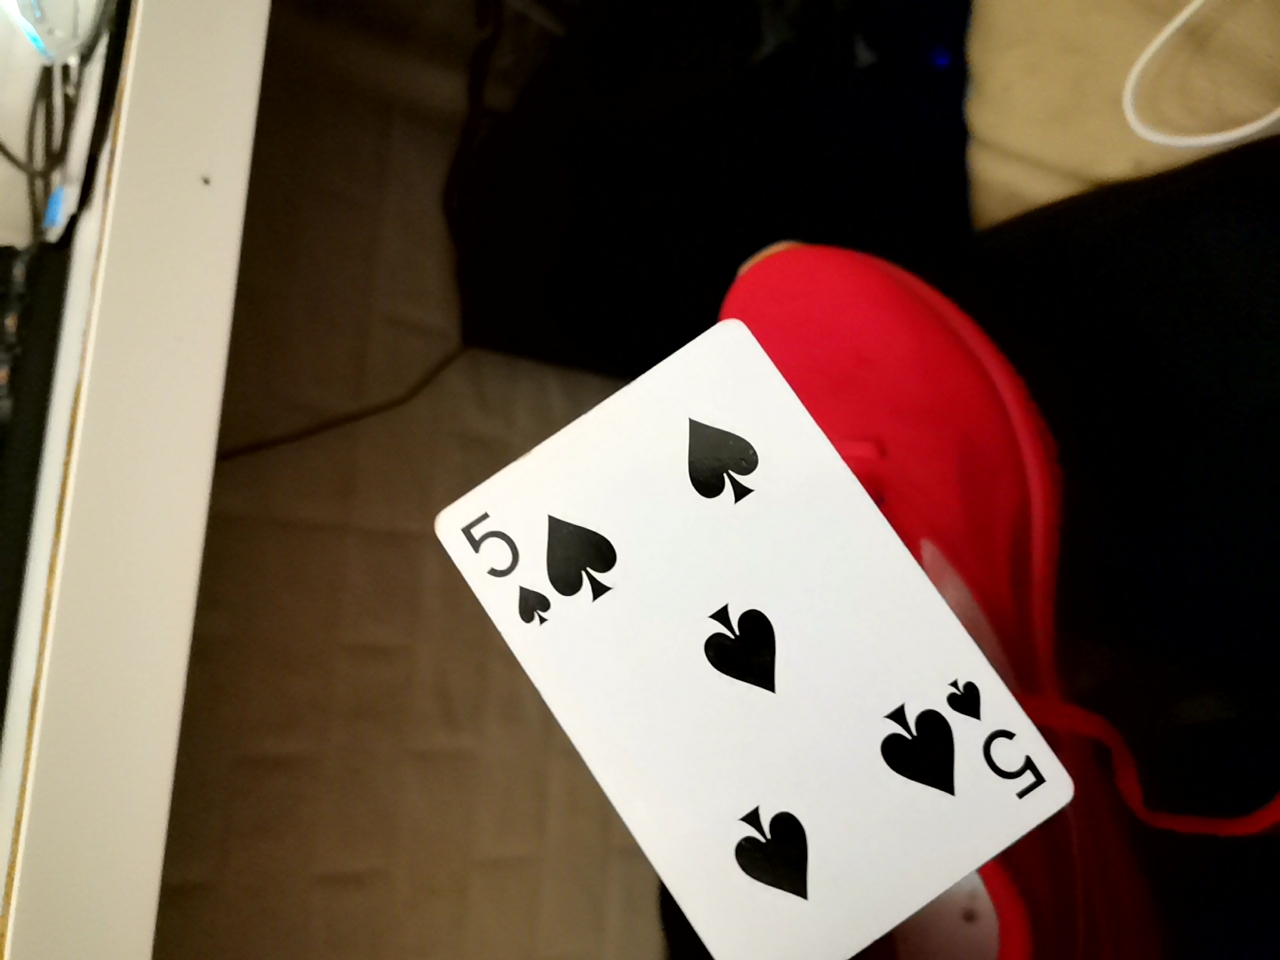ht 5: (445, 311, 1063, 955)
